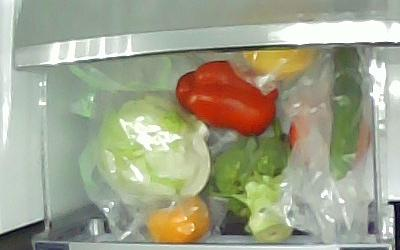apple_vinyl: (290, 113, 371, 170)
broccoli: (212, 136, 294, 243)
cucumber_vinyl: (329, 46, 362, 180)
grapefruit_vinyl: (241, 49, 317, 78)
lettuce_vinyl: (95, 95, 211, 207)
paprika: (176, 61, 279, 136)
persimmon_vinyl: (146, 196, 212, 245)
